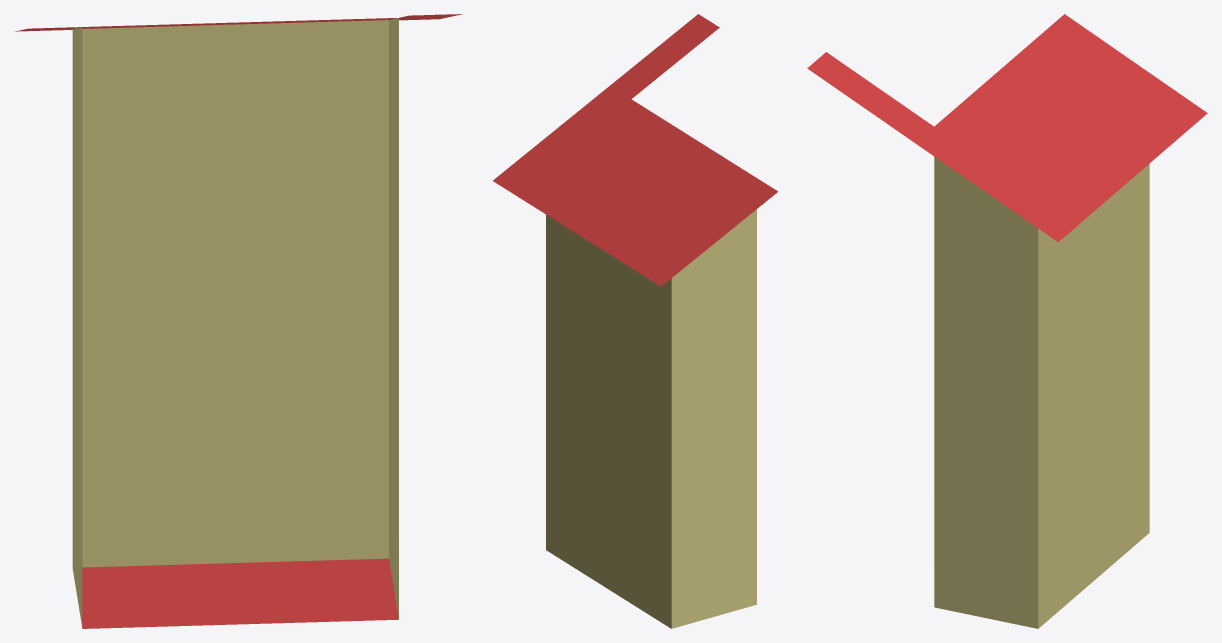
The picture shows the model from 3 angles, left to right: view 1: azimuth 30°, elevation 25°; view 2: azimuth 150°, elevation 25°; view 3: azimuth 270°, elevation 25°; orthographic projection. The views are drawn at different scales.
Size of the model in its own units: 6.48 by 6.91 by 10.14.
